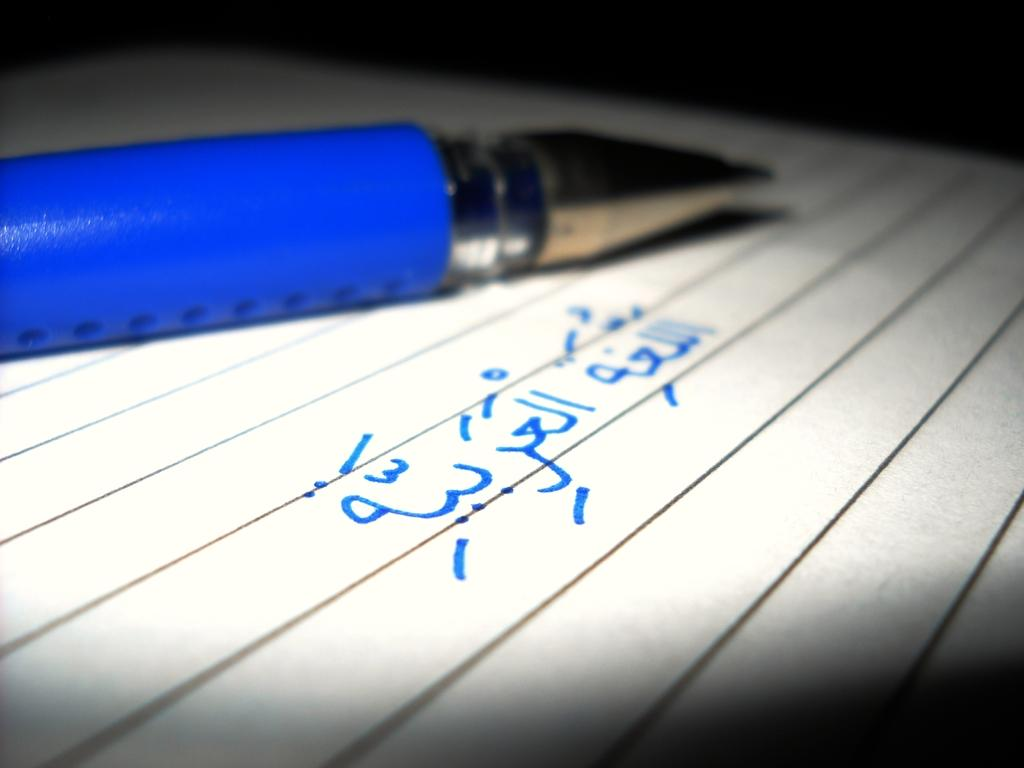pen: (3, 122, 781, 367)
